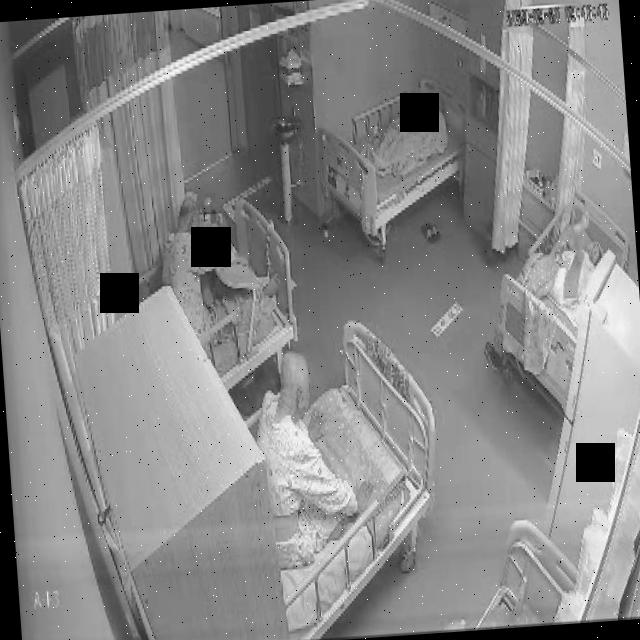bed: (254, 317, 450, 640), (486, 185, 640, 417), (162, 198, 300, 396), (316, 74, 466, 238)
lie: (523, 208, 608, 326)
patient: (250, 347, 379, 570), (160, 194, 284, 344), (546, 205, 607, 314)
sit: (250, 347, 379, 568), (160, 196, 283, 341)
